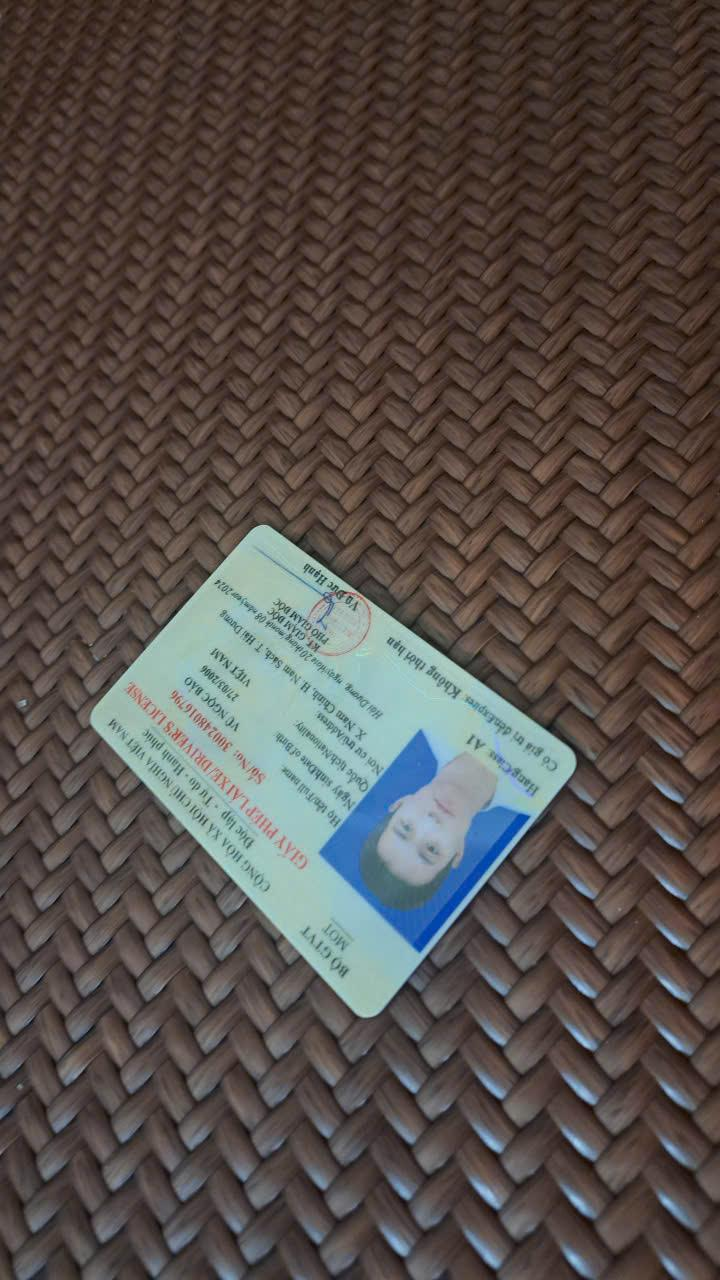gplx: (82, 511, 582, 1030)
